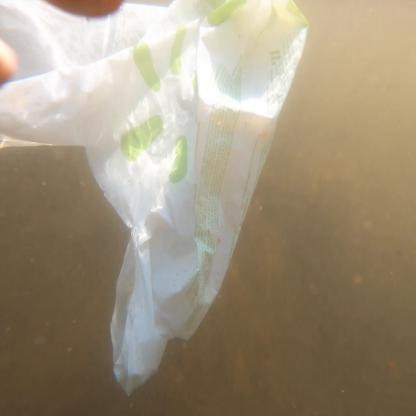Rác: (5, 6, 307, 348)
